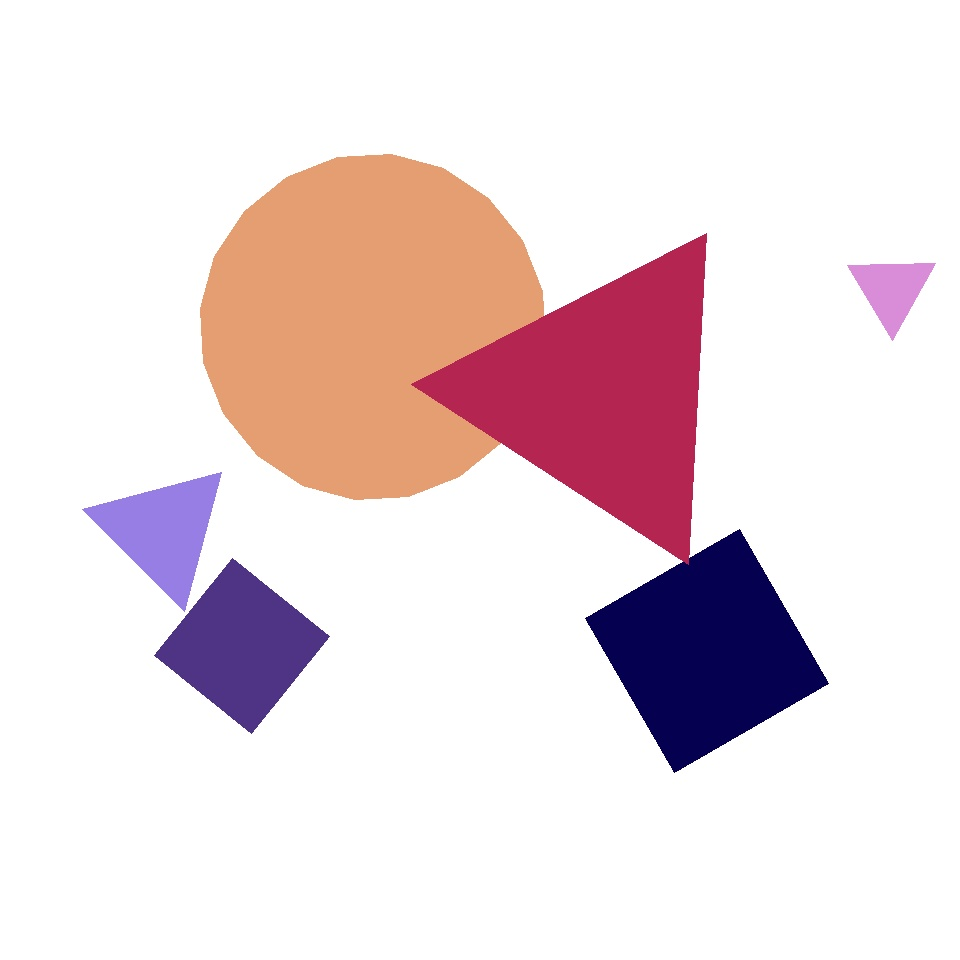circle: (454, 228, 750, 560), (172, 564, 432, 834), (524, 326, 766, 600), (94, 462, 232, 600), (848, 252, 936, 328)
square: (586, 530, 828, 772), (154, 558, 330, 734)
triangle: (200, 154, 546, 499), (0, 178, 334, 512), (52, 168, 318, 433)
